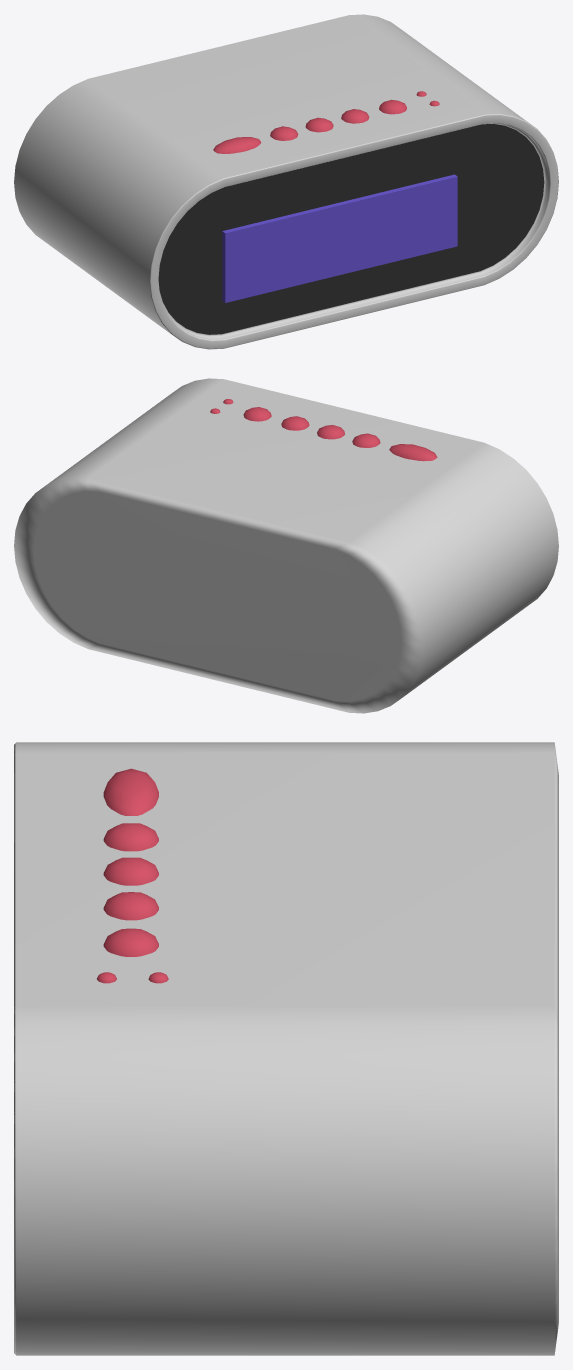
The model's file is AlarmClock2.fbx.
3 renders of one model, top to bottom at view 1: azimuth 30°, elevation 25°; view 2: azimuth 150°, elevation 25°; view 3: azimuth 270°, elevation 25°, orthographic. The views are drawn at different scales.
Visible parts, largest first — view 1: Cylinder; view 2: Cylinder; view 3: Cylinder.
Boxes of the visible parts, <box> form: Cylinder: <box>14,14,558,349</box>; Cylinder: <box>14,378,558,713</box>; Cylinder: <box>14,742,558,1355</box>.
Bounding box in the file's own units: 499 × 207 × 290.
